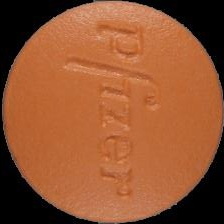54868-5528: (0, 0, 224, 224)
